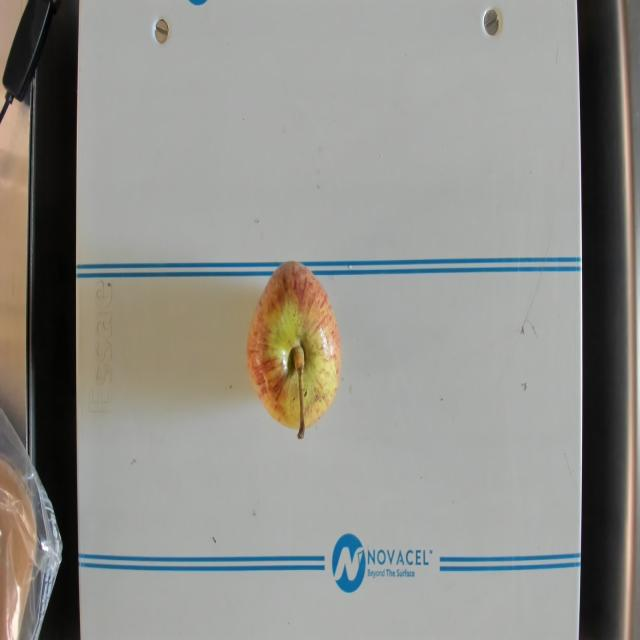apple: (245, 256, 343, 442)
